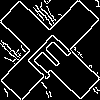E: (25, 25, 80, 81)
